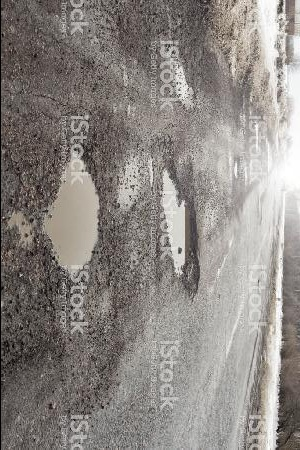pothole: (44, 151, 104, 280), (159, 155, 203, 295)
